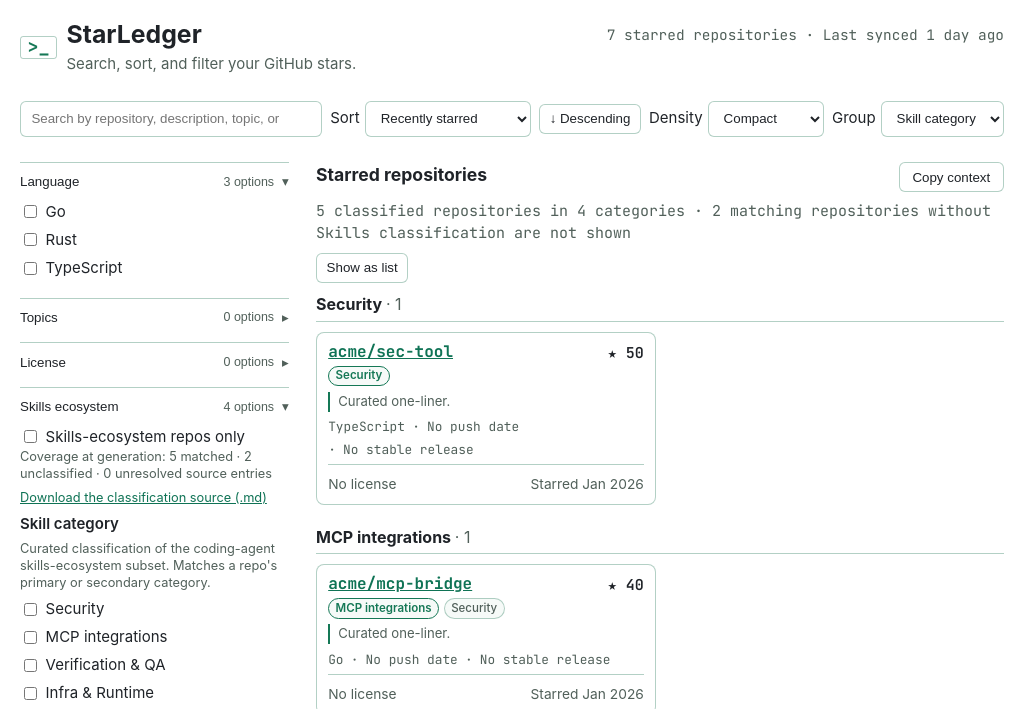
Test: M4.1 grouped view — projection after search → filter → sort (§15.4) › M41-UNC-1: scope=all discloses excludedCount and offers Show as list (→ flat count == prior results.length); scope=skills ⇒ no exclusion, no disclosure; the sco
Click the button "Show as list" at (362, 268), box [316,253,408,283]
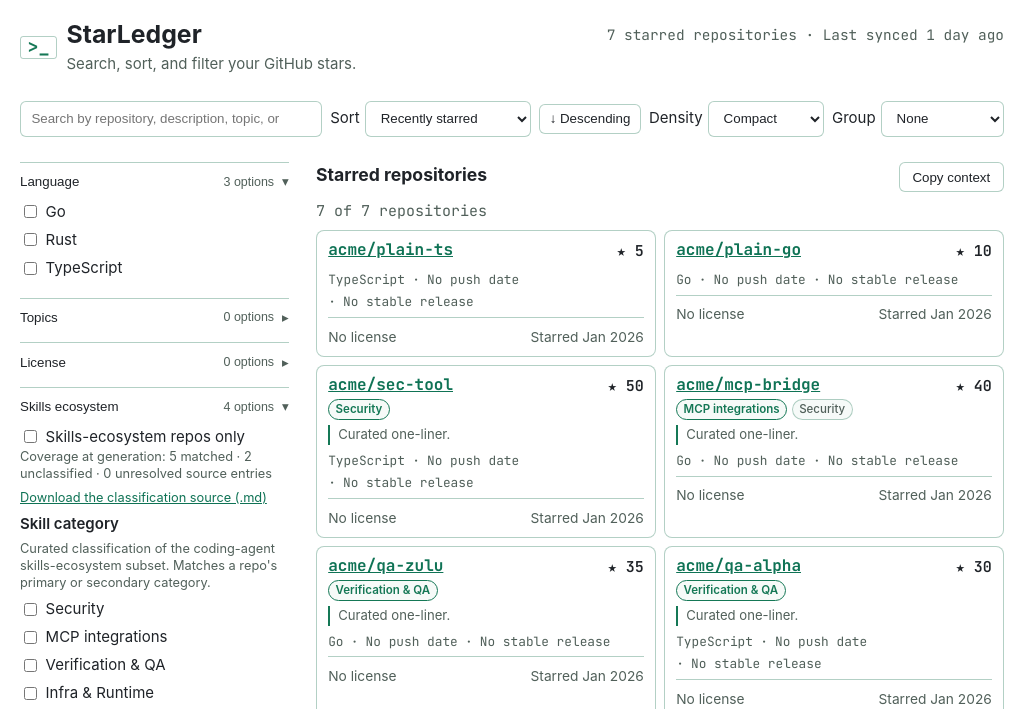
Expected: the message with class "result-count" reads "7 of 7 repositories", [316,201,487,221]
Expected: the dropdown labelled "Group" shows "None"
Select "Skill category" in the dropdown labelled "Group" at (943, 119), box [881,101,1004,137]
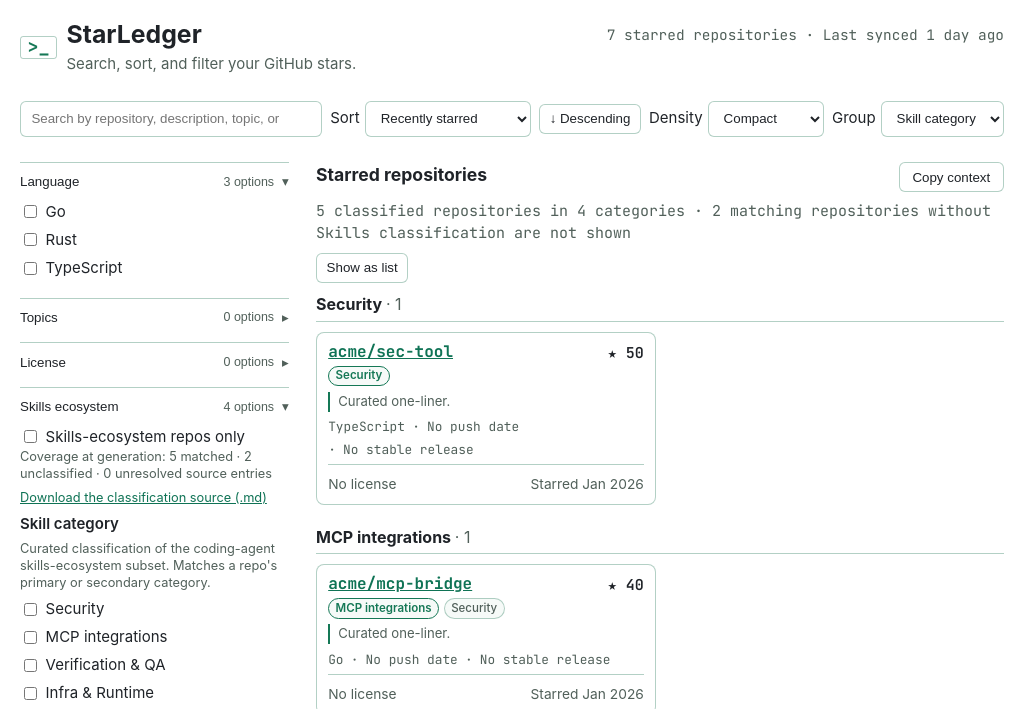
Click the checkbox labelled "Skills-ecosystem repos only" at (30, 437), box [24,430,37,443]
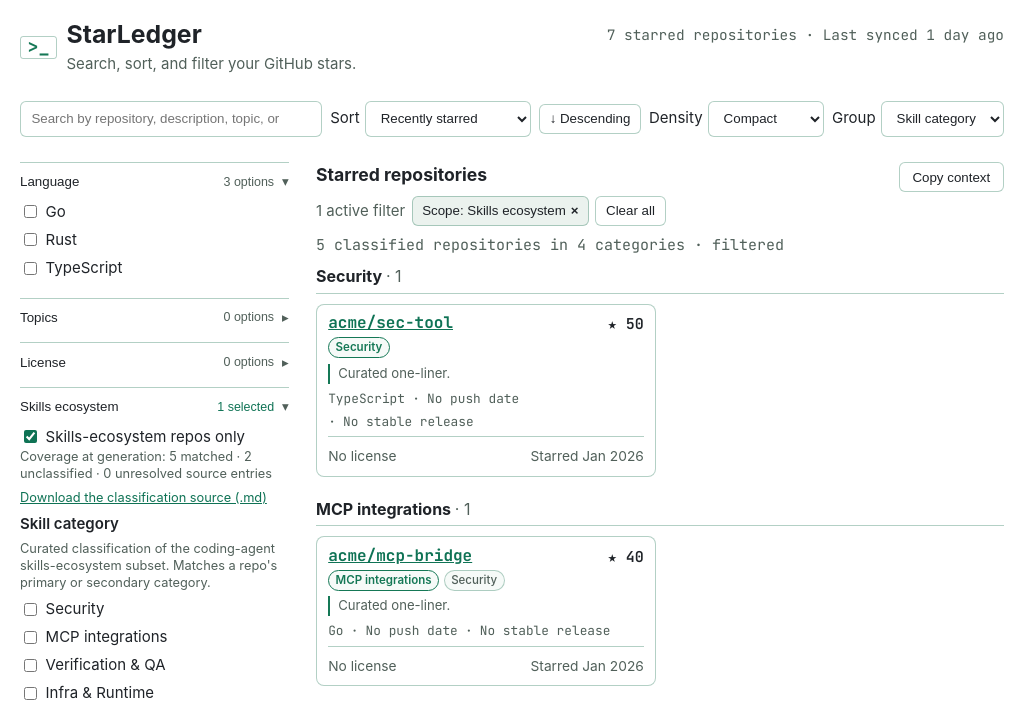
Expected: the message with class "result-count" reads "5 classified repositories in 4 categories · filtered", [316,235,784,255]
Expected: the button "Show as list" is gone
Click the checkbox labelled "Skills-ecosystem repos only" at (30, 437), box [24,430,37,443]
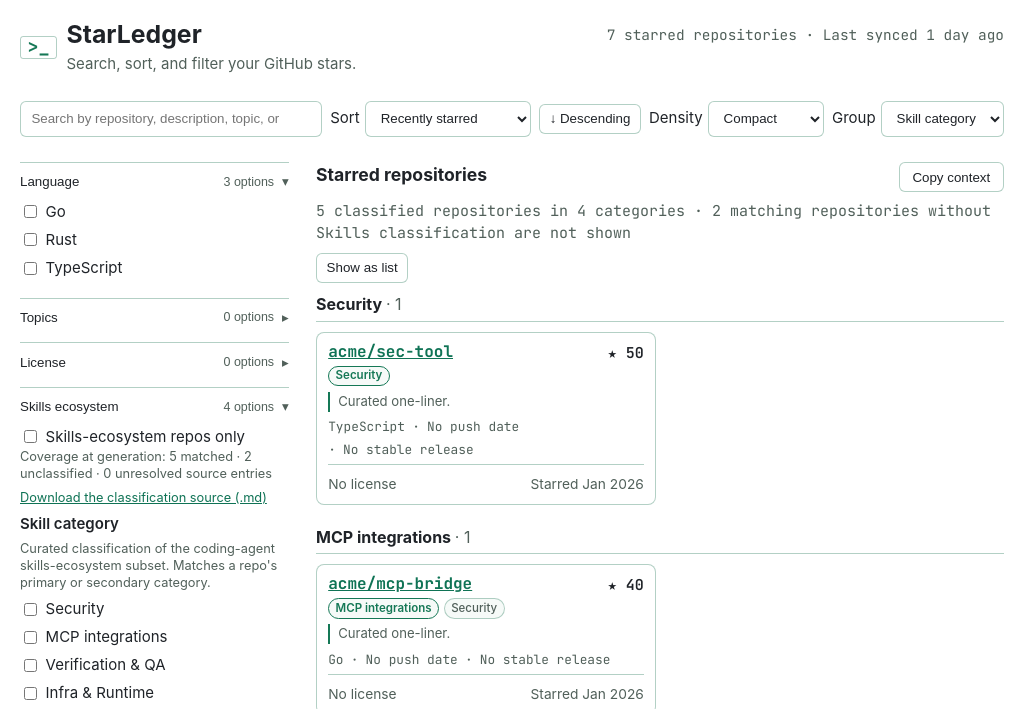
Expected: the button "Show as list" is shown, [316,253,408,283]
